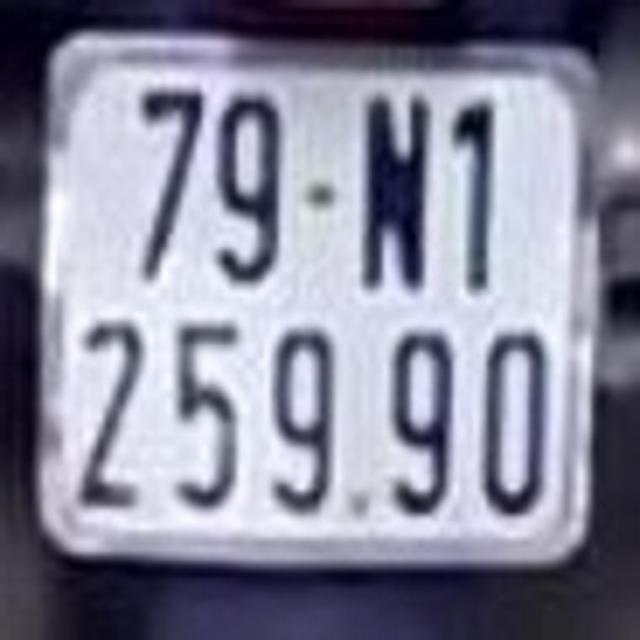0: (486, 316, 549, 519)
1: (448, 84, 507, 294)
2: (80, 306, 142, 514)
5: (171, 304, 247, 513)
7: (132, 78, 206, 276)
9: (266, 312, 338, 514), (216, 79, 284, 288), (388, 320, 456, 524)
M: (359, 86, 433, 296)
